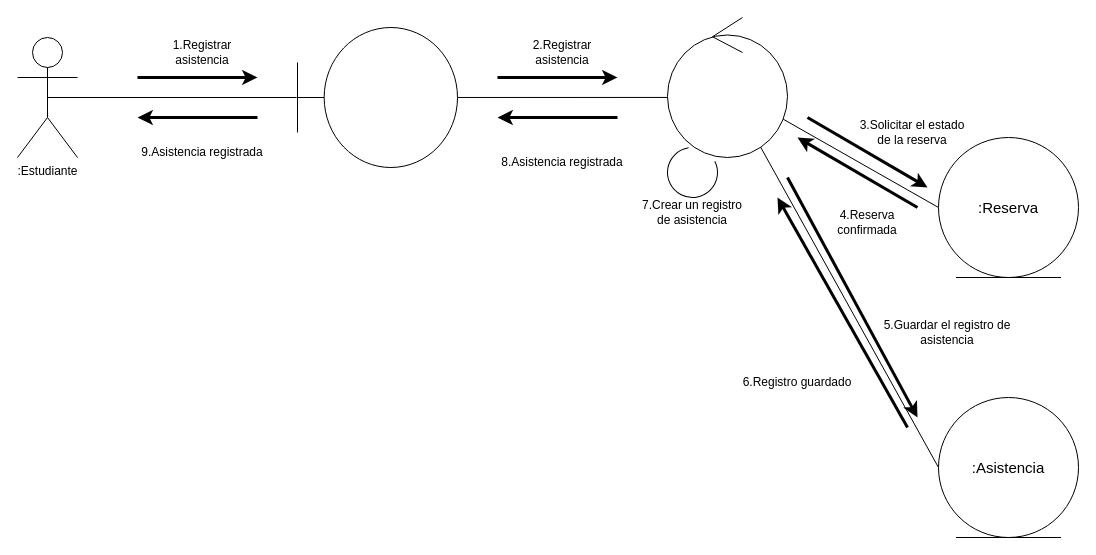
Image size: 1096x555. Some labels were removed from this diagram. Here are the shapes that lost their labels. From the top down, the centre of each, then its label:
At (377,97): ":PantallaAsistencia".
At (727,87): ":Gestion Asistencia".
